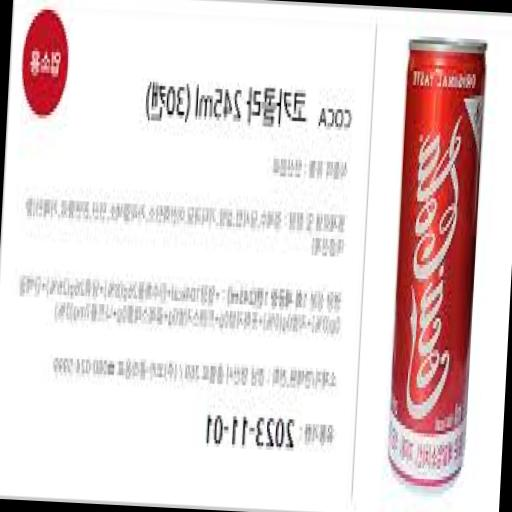Coca: (378, 27, 492, 496)
